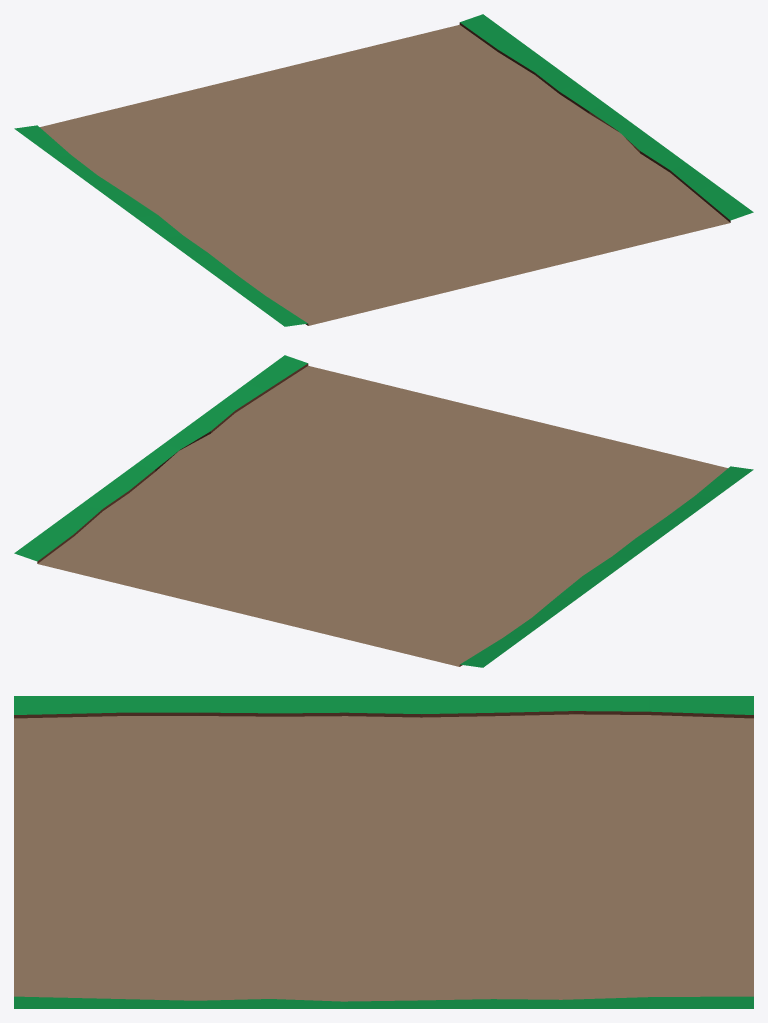
File: Gravel_Segment.fbx
3 renders of one model, top to bottom at view 1: azimuth 30°, elevation 25°; view 2: azimuth 150°, elevation 25°; view 3: azimuth 270°, elevation 25°, orthographic. The views are drawn at different scales.
Visible parts, largest first — view 1: Plane; view 2: Plane; view 3: Plane.
Boxes of the visible parts, x1,y1,x2,y2 form: Plane: (14,14,753,326); Plane: (14,355,753,667); Plane: (14,696,753,1008).
Bounding box in the file's own units: 20 × 0.2 × 20.
